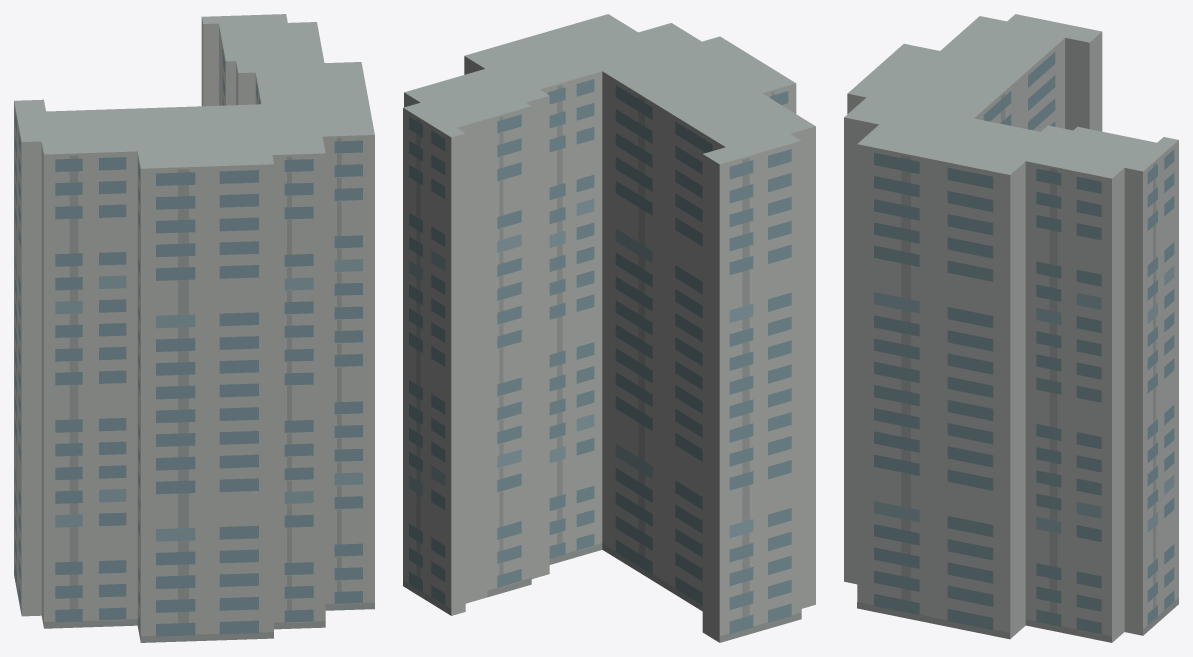
Rendered from residential-cde5b469-4055-4529-ae2a-b3d636d6d5f9.glb.
The picture shows the model from 3 angles, left to right: view 1: azimuth 30°, elevation 25°; view 2: azimuth 150°, elevation 25°; view 3: azimuth 270°, elevation 25°; orthographic projection. The views are drawn at different scales.
Parts seen in each view (by area): view 1: residential-cde5b469-4055-4529-ae2a-b3d636d6d5f9.tmp; view 2: residential-cde5b469-4055-4529-ae2a-b3d636d6d5f9.tmp; view 3: residential-cde5b469-4055-4529-ae2a-b3d636d6d5f9.tmp.
Boxes of the visible parts, <box> form: residential-cde5b469-4055-4529-ae2a-b3d636d6d5f9.tmp: <box>14,14,374,642</box>; residential-cde5b469-4055-4529-ae2a-b3d636d6d5f9.tmp: <box>403,14,815,642</box>; residential-cde5b469-4055-4529-ae2a-b3d636d6d5f9.tmp: <box>844,14,1178,642</box>.
Size of the model in its own units: 44.12 by 58 by 37.92.
